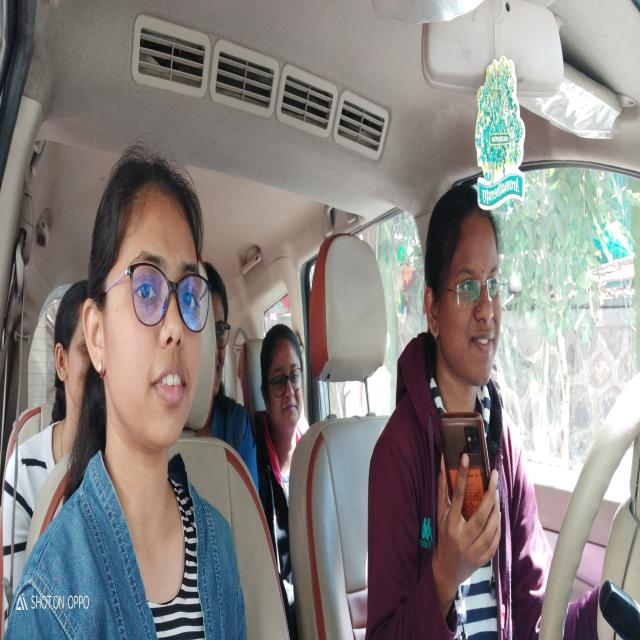mobile: (438, 409, 500, 572)
person: (82, 140, 212, 477), (425, 184, 507, 401), (51, 272, 96, 444), (261, 321, 305, 450), (204, 259, 232, 415)
